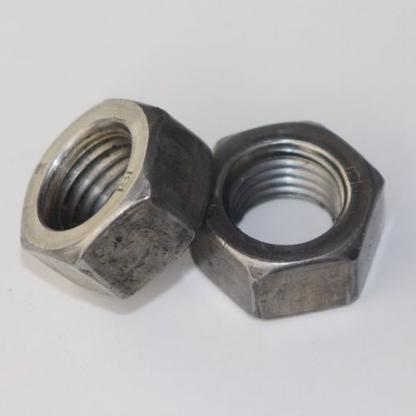FOD: (188, 116, 390, 324), (17, 98, 214, 303)
